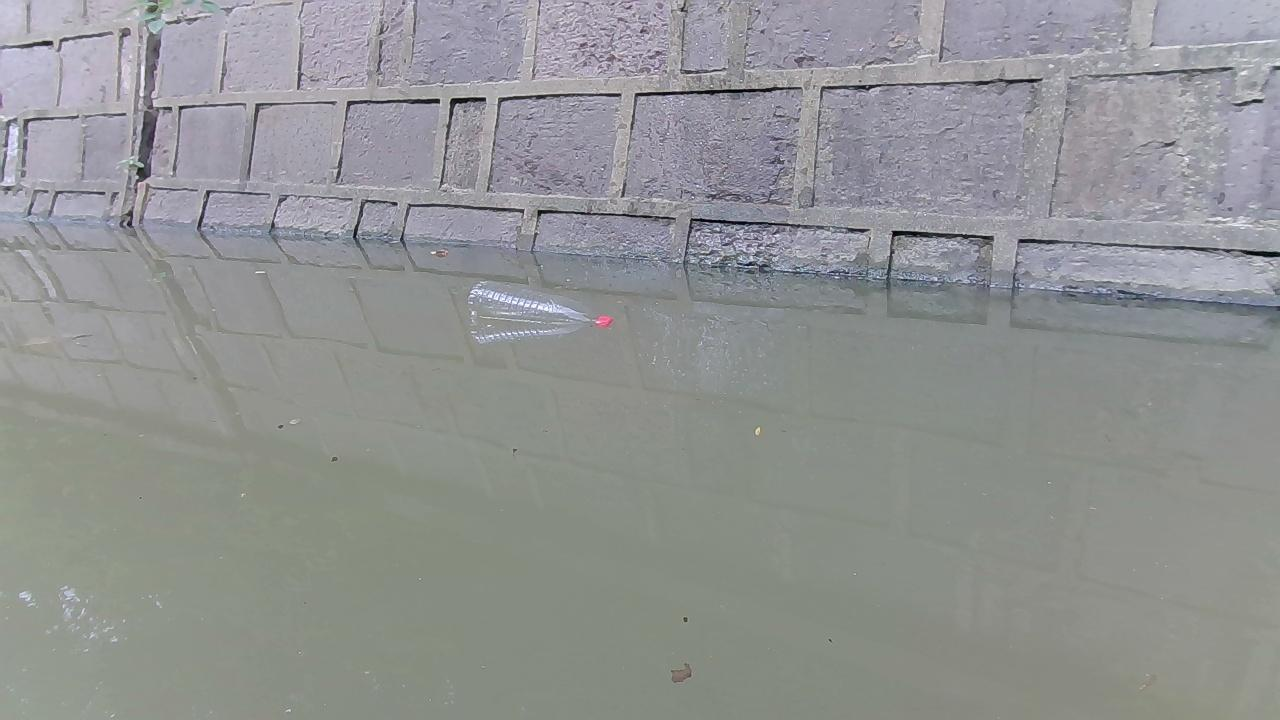bottle: (468, 271, 615, 333)
